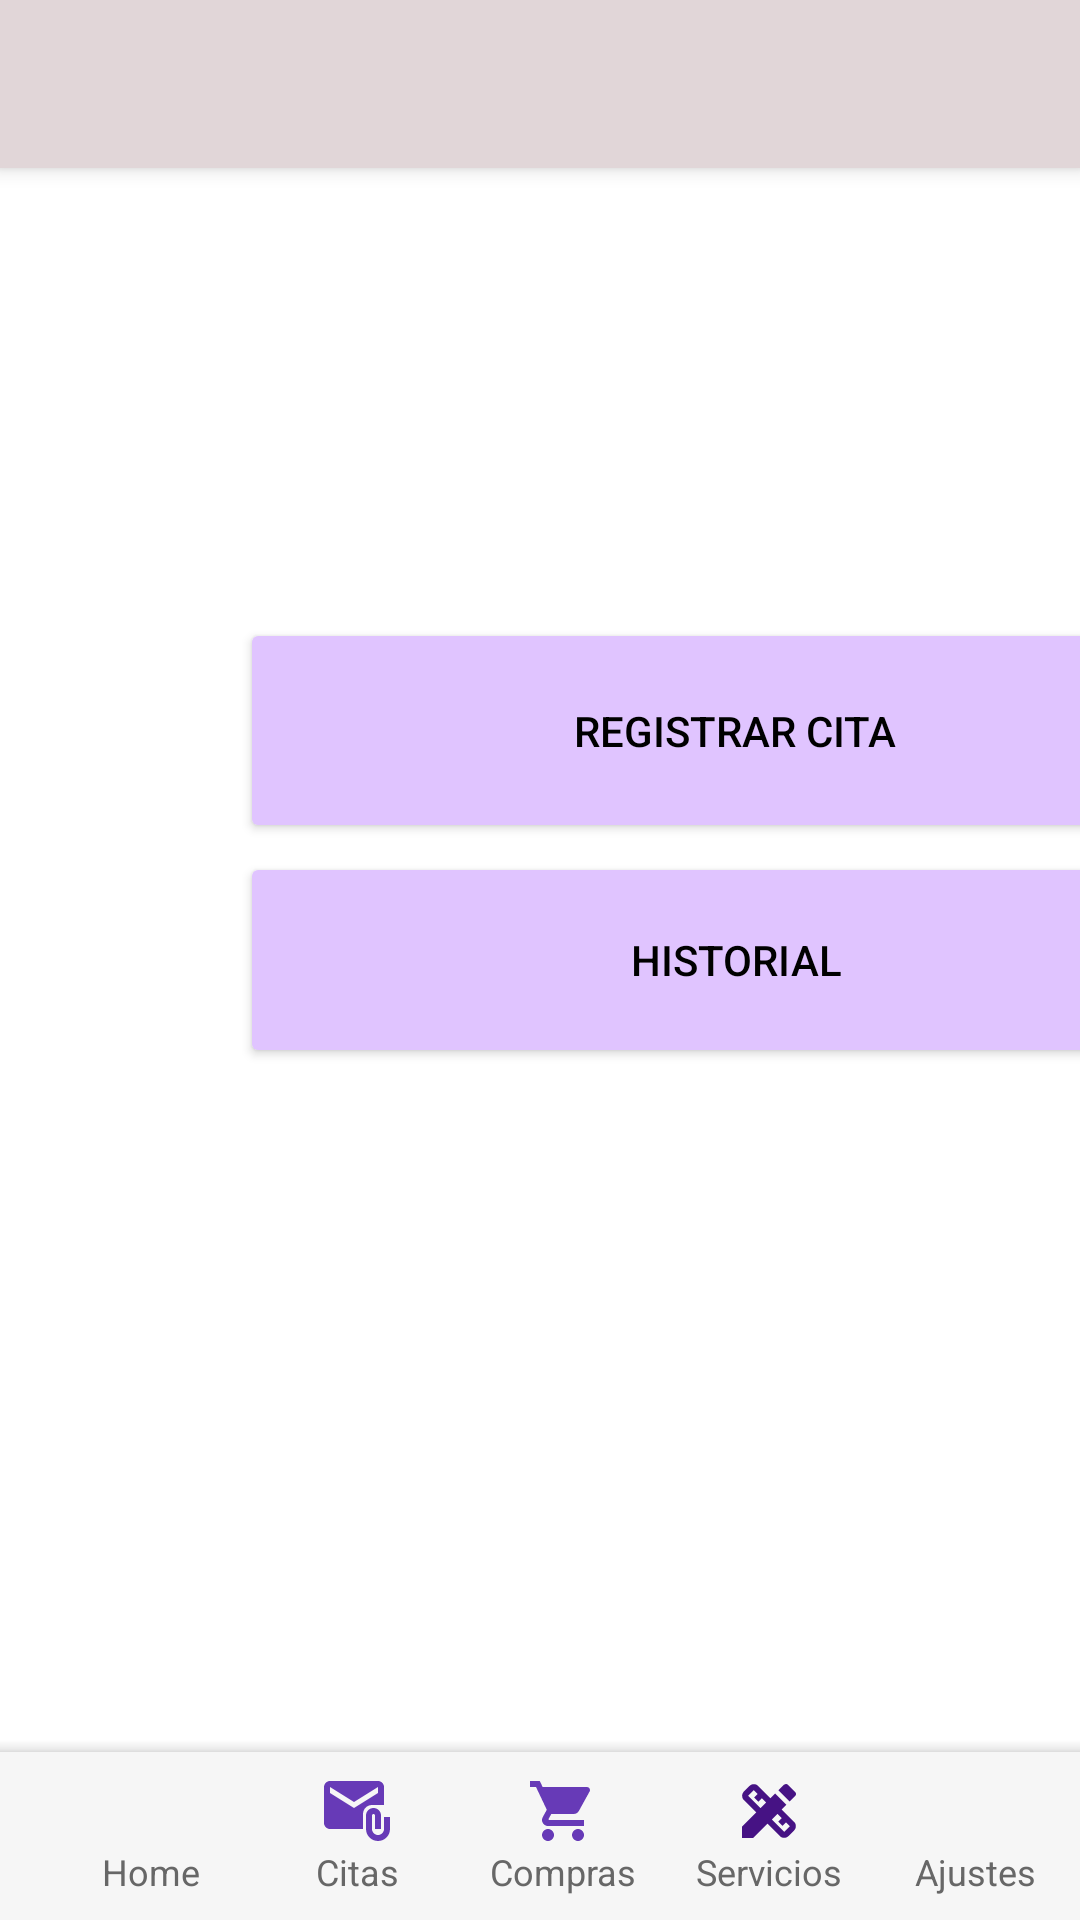

Point at icon controls on the screen. Image size 1080w x 1920h, points as (x,y).
attach email: (357,1811)
design services: (769,1811)
